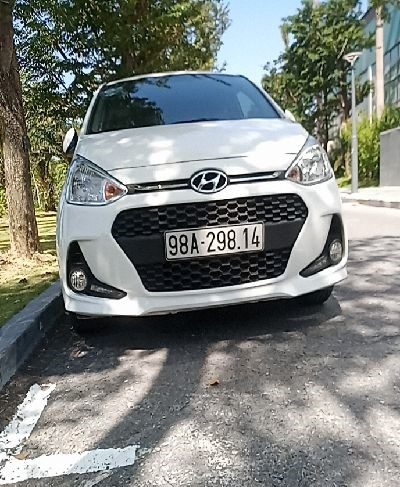number_plate: (151, 223, 286, 259)
